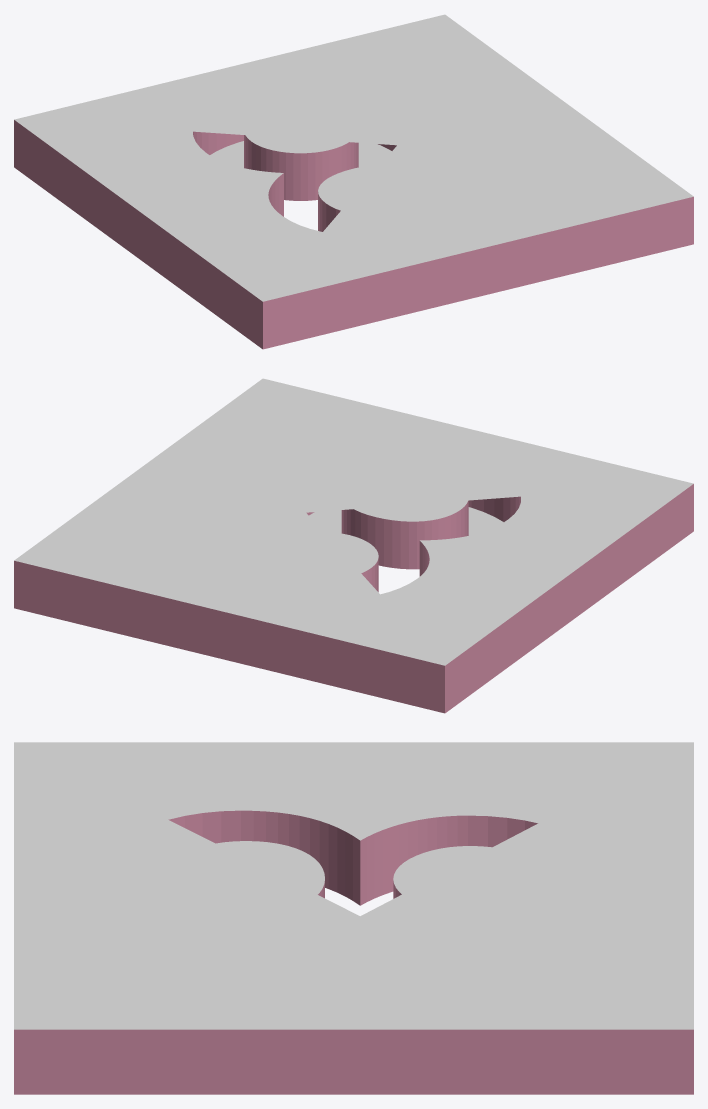
The model's file is stracout8 1.fbx.
3 views of the same model, one above another, from view 1: azimuth 30°, elevation 25°; view 2: azimuth 150°, elevation 25°; view 3: azimuth 270°, elevation 25° (orthographic). The views are drawn at different scales.
Parts seen in each view (by area): view 1: 8; view 2: 8; view 3: 8.
Part boxes in pixels (bbox=[...]): 8: bbox=[14, 14, 693, 349]; 8: bbox=[14, 378, 693, 713]; 8: bbox=[14, 742, 693, 1094].
Size of the model in its own units: 464 by 49.06 by 464.
